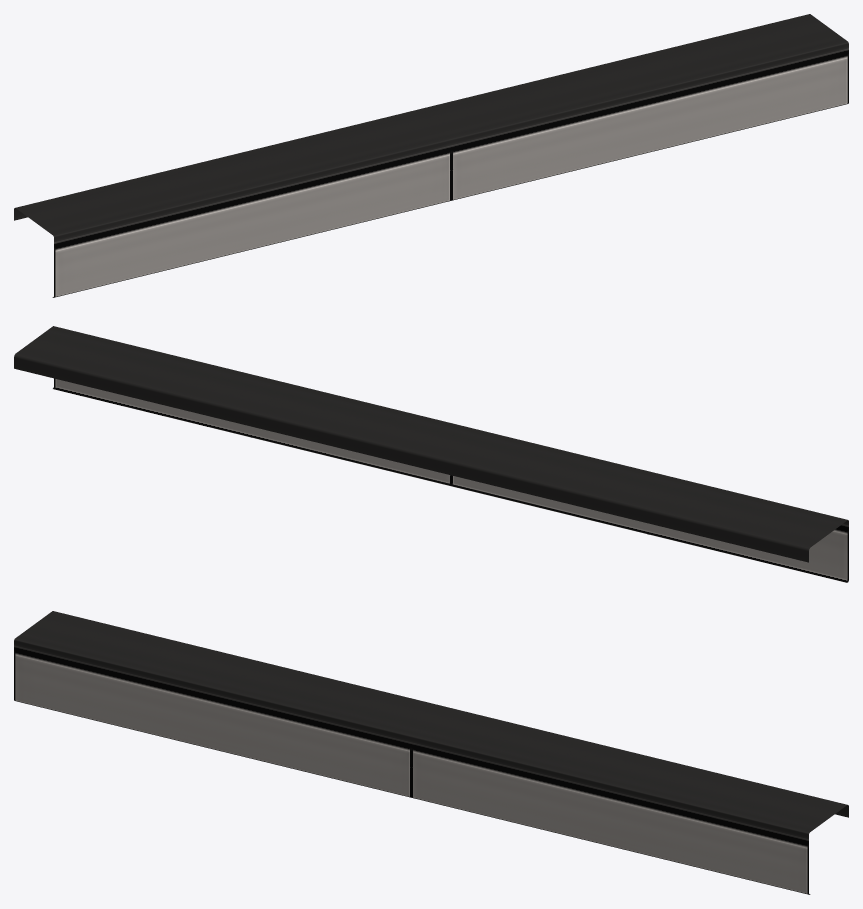
Rendered from RoofTrim_3.fbx.
3 views of the same model, one above another, from view 1: azimuth 30°, elevation 25°; view 2: azimuth 150°, elevation 25°; view 3: azimuth 330°, elevation 25° (orthographic).
Parts seen in each view (by area): view 1: RoofTrim_3; view 2: RoofTrim_3; view 3: RoofTrim_3.
Boxes of the visible parts, x1,y1,x2,y2 form: RoofTrim_3: (14, 14, 848, 297); RoofTrim_3: (14, 326, 848, 582); RoofTrim_3: (14, 611, 848, 894).
Size of the model in its own units: 300 by 22.44 by 26.21.
